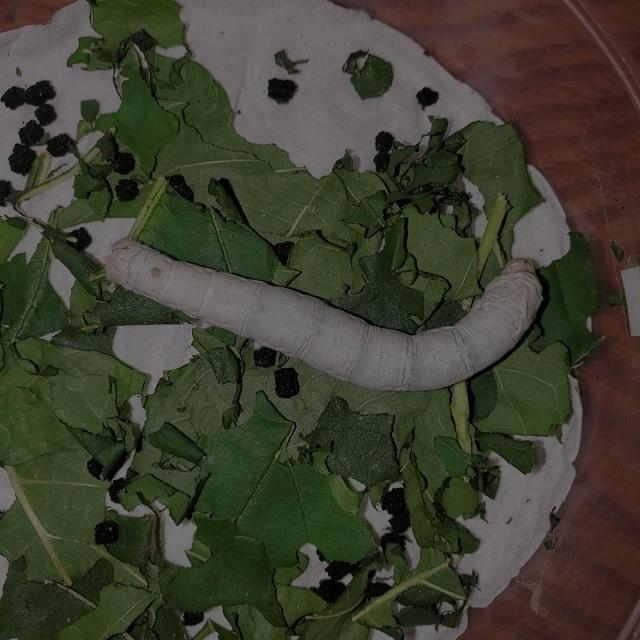Healthy: (65, 190, 596, 423)
